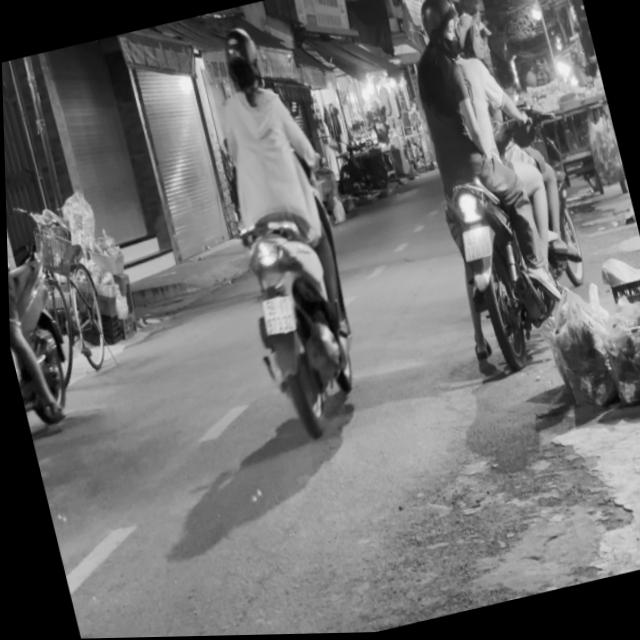helmet: (214, 24, 263, 96), (410, 0, 458, 56)
licenseplate: (379, 0, 605, 382), (181, 15, 378, 443), (3, 109, 89, 449)
nohelmet: (254, 293, 293, 336), (455, 226, 491, 261)
